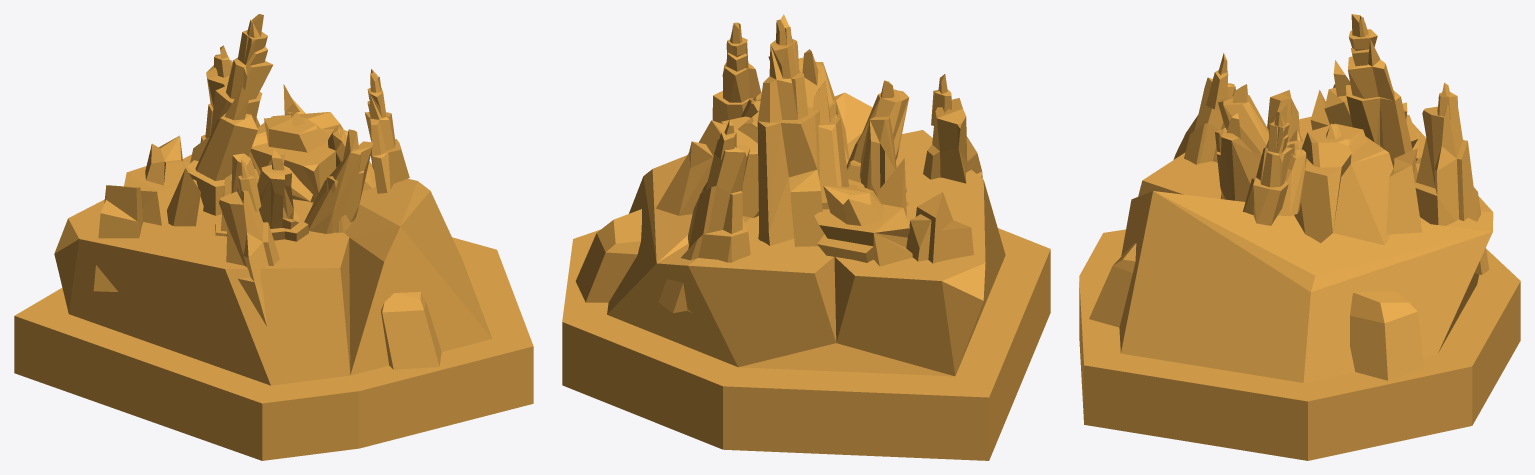
The model's file is island-spikes.fbx.
The picture shows the model from 3 angles, left to right: view 1: azimuth 30°, elevation 25°; view 2: azimuth 150°, elevation 25°; view 3: azimuth 270°, elevation 25°; orthographic projection. The views are drawn at different scales.
Parts seen in each view (by area): view 1: island-spikes; view 2: island-spikes; view 3: island-spikes.
Boxes of the visible parts, x1,y1,x2,y2 form: island-spikes: (14,14,533,460); island-spikes: (562,14,1050,460); island-spikes: (1079,14,1520,460).
Bounding box in the file's own units: 102 × 74.69 × 87.94.
